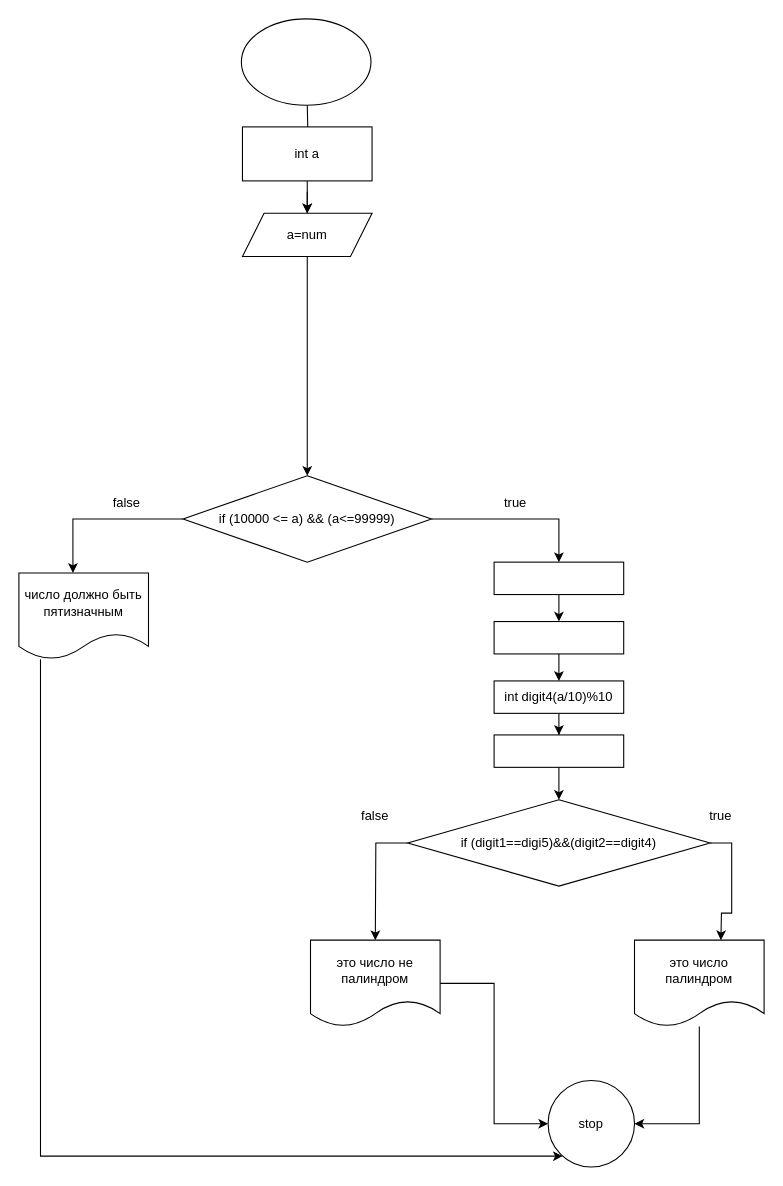
The diagram is 783 pixels wide and 1186 high, and some of its shapes have lost their labels. The centre of each missing label's shape, as x and y in pixels:
int digit1 a/1000: [558,578]
int digit2 (a/1000)%10: [558,637]
int digit5 = a%10: [558,750]
start: [305,61]
